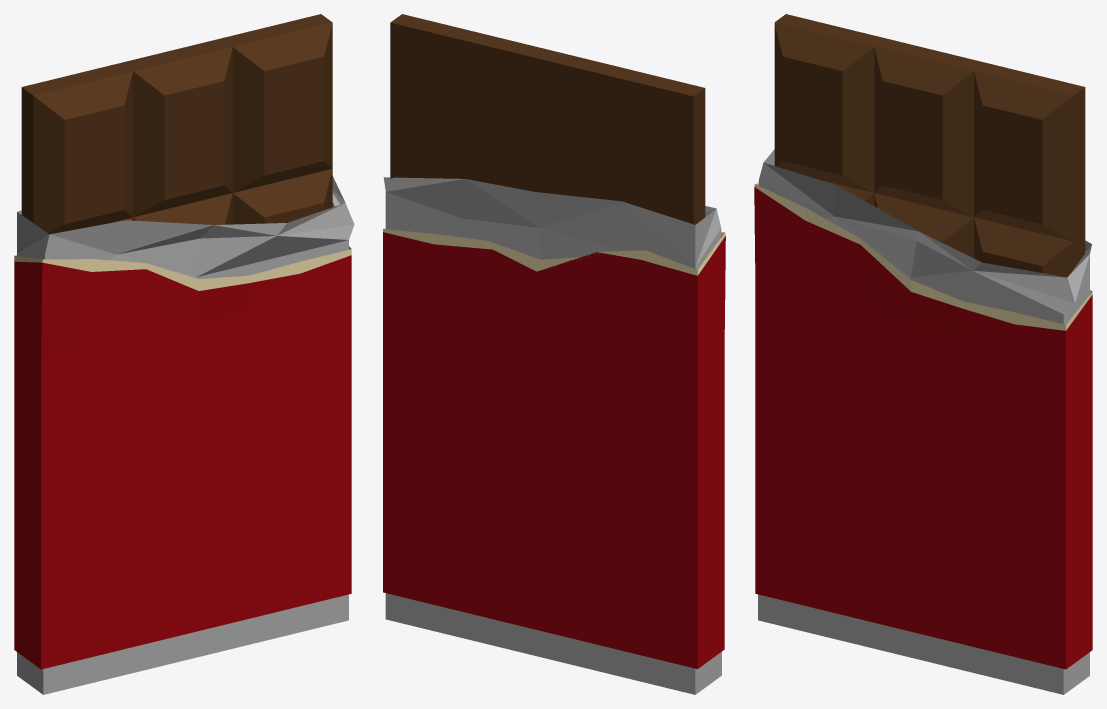
File: chocolate.fbx
3 renders of one model, left to right at view 1: azimuth 30°, elevation 25°; view 2: azimuth 150°, elevation 25°; view 3: azimuth 330°, elevation 25°, orthographic.
Visible parts, largest first — view 1: chocolate; view 2: chocolate; view 3: chocolate.
Boxes of the visible parts, box(x1,y1,x2,y2) form: chocolate: box(14, 14, 354, 694); chocolate: box(383, 14, 725, 694); chocolate: box(754, 14, 1092, 694).
Size of the model in its own units: 8.84 by 15.72 by 1.85.
